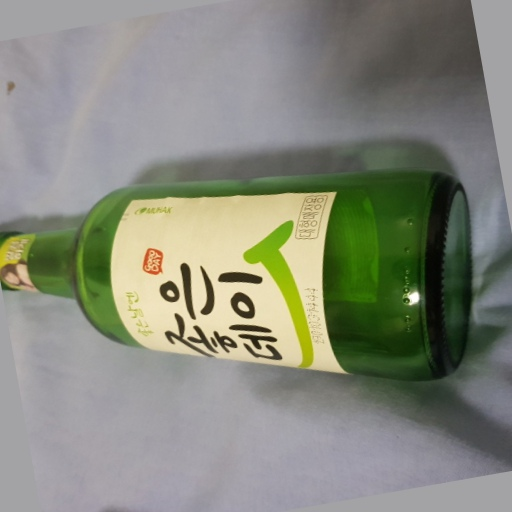Glass_0: (1, 162, 483, 391)
